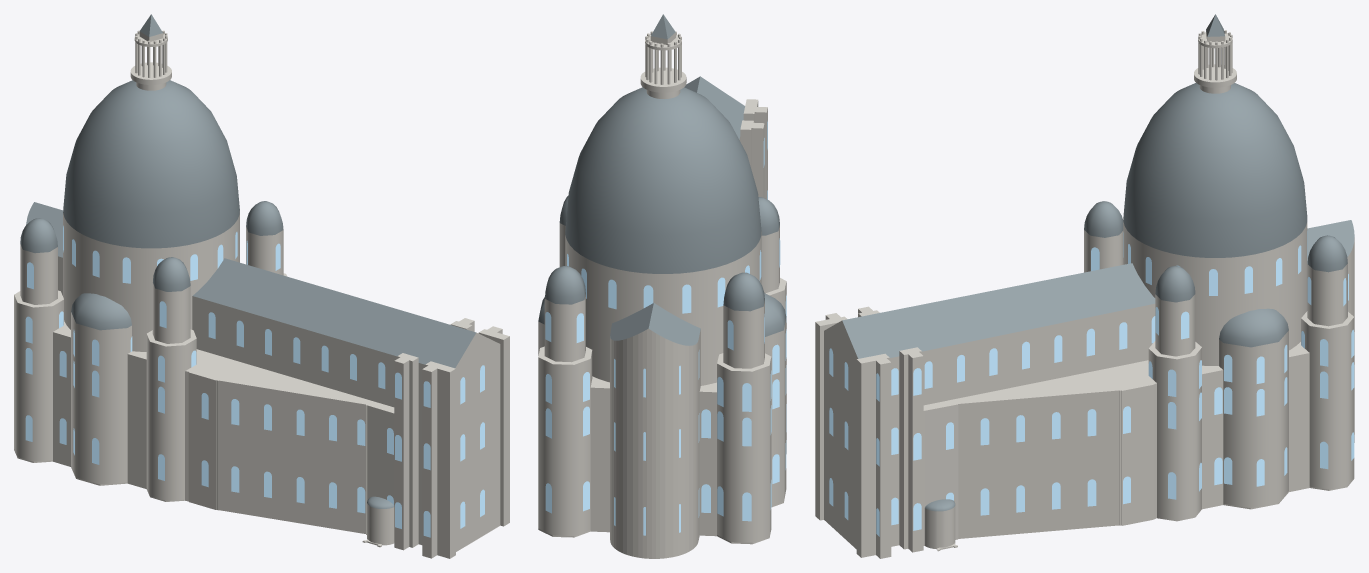
The picture shows the model from 3 angles, left to right: view 1: azimuth 30°, elevation 25°; view 2: azimuth 150°, elevation 25°; view 3: azimuth 270°, elevation 25°; orthographic projection. The views are drawn at different scales.
Parts seen in each view (by area): view 1: stone, roof, window; view 2: stone, roof, window; view 3: stone, roof, window.
Part boxes in pixels (bbox=[...]): stone: bbox=[14, 30, 509, 558]; roof: bbox=[20, 14, 476, 508]; window: bbox=[25, 225, 484, 537]; stone: bbox=[538, 31, 786, 558]; roof: bbox=[538, 14, 786, 345]; window: bbox=[545, 121, 786, 535]; stone: bbox=[815, 30, 1354, 558]; roof: bbox=[842, 14, 1354, 511]; window: bbox=[829, 231, 1354, 536].
Size of the model in its own units: 61.58 by 83 by 90.49.
